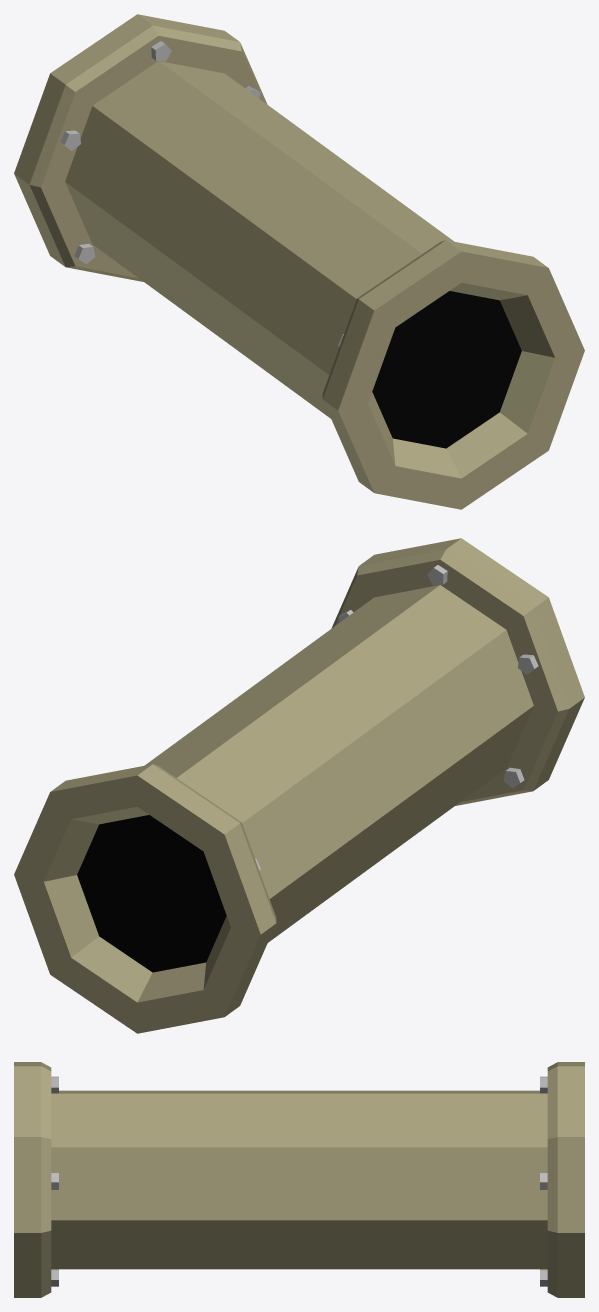
The model's file is PipeMedium.glb.
The picture shows the model from 3 angles, top to bottom: view 1: azimuth 30°, elevation 25°; view 2: azimuth 150°, elevation 25°; view 3: azimuth 270°, elevation 25°; orthographic projection. The views are drawn at different scales.
Visible parts, largest first — view 1: MediumPipe; view 2: MediumPipe; view 3: MediumPipe.
Part boxes in pixels (box(x1,y1,x2,y2)): MediumPipe: box(14, 14, 584, 509); MediumPipe: box(14, 538, 584, 1033); MediumPipe: box(14, 1062, 584, 1297).
Bounding box in the file's own units: 2.64 × 2.64 × 6.
